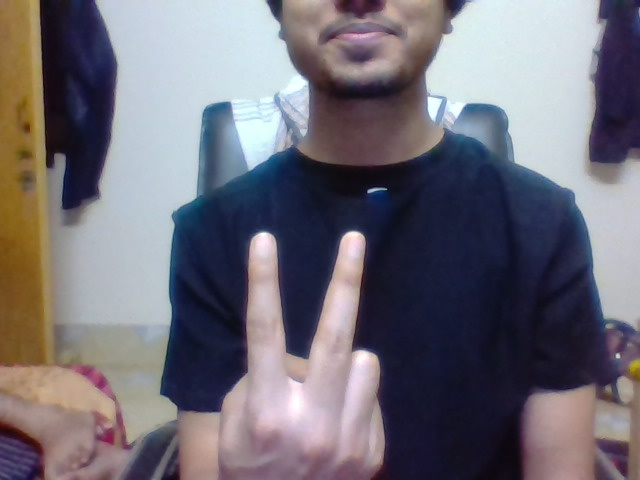V: (245, 227, 367, 369)
